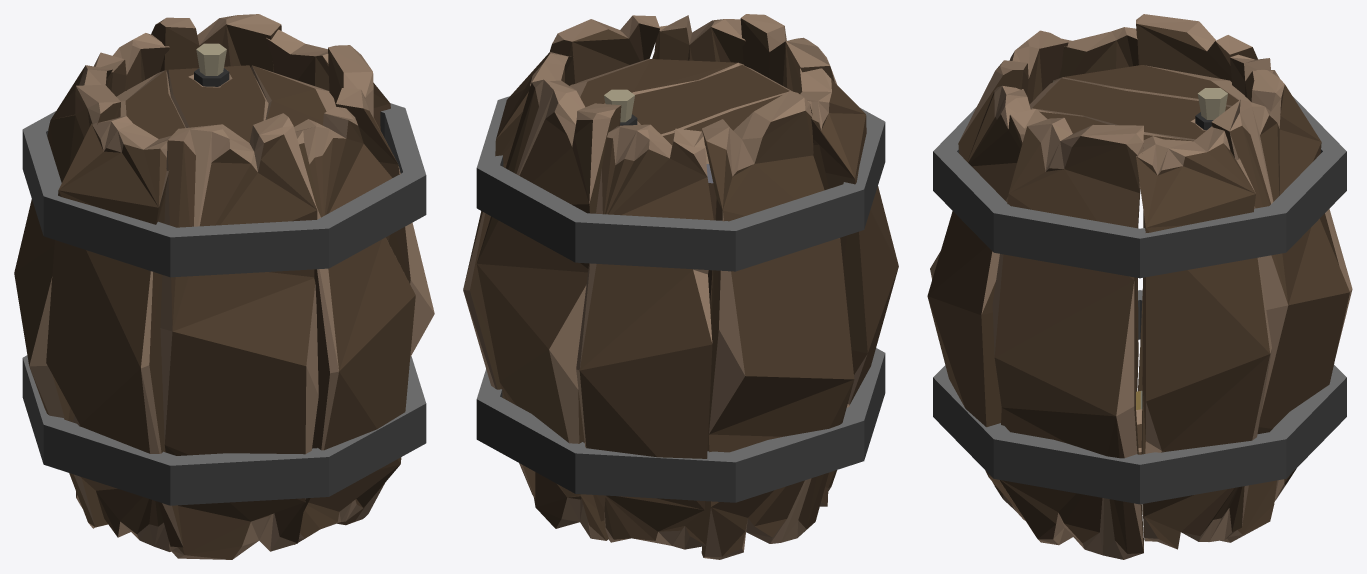
The model's file is Lagerfass_01.FBX.
The picture shows the model from 3 angles, left to right: view 1: azimuth 30°, elevation 25°; view 2: azimuth 150°, elevation 25°; view 3: azimuth 270°, elevation 25°; orthographic projection. The views are drawn at different scales.
Visible parts, largest first — view 1: Lagerfass_01; view 2: Lagerfass_01; view 3: Lagerfass_01.
Boxes of the visible parts, bbox=[...] form: Lagerfass_01: bbox=[14, 14, 434, 559]; Lagerfass_01: bbox=[463, 14, 898, 559]; Lagerfass_01: bbox=[927, 14, 1352, 559].
Bounding box in the file's own units: 1.54 × 1.75 × 1.56.
